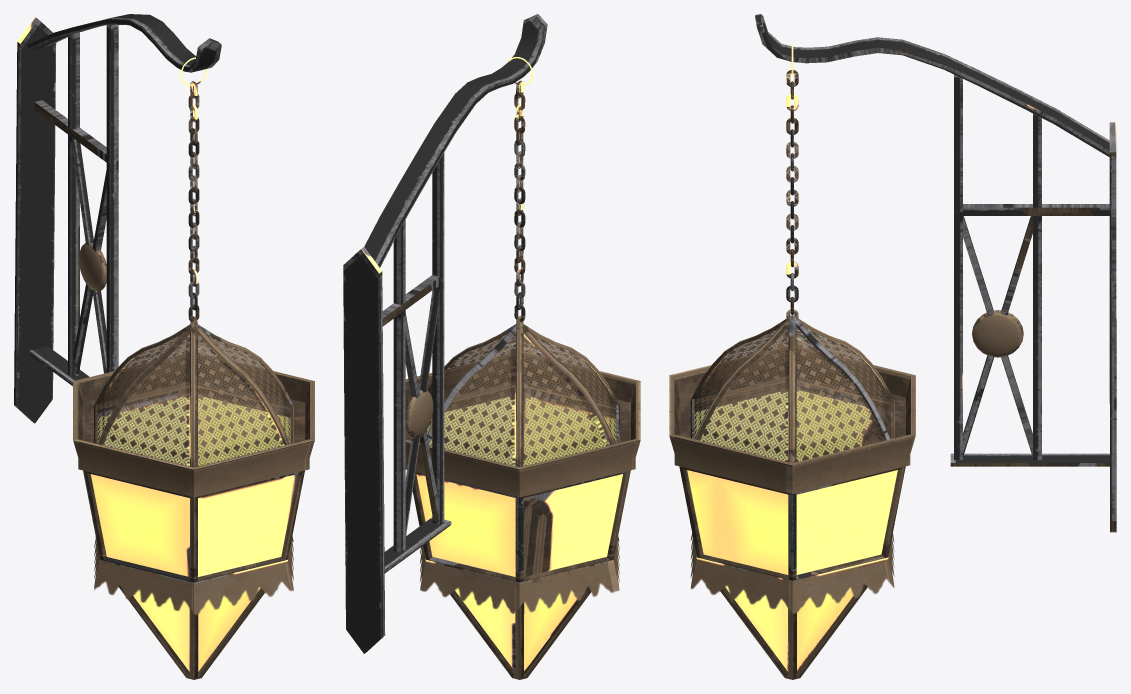
The model's file is xi_dep_wall_lamp.gltf.
3 views of the same model, side by side, from view 1: azimuth 30°, elevation 25°; view 2: azimuth 150°, elevation 25°; view 3: azimuth 270°, elevation 25° (orthographic).
Parts seen in each view (by area): view 1: xi_dep_wall_lamp; view 2: xi_dep_wall_lamp; view 3: xi_dep_wall_lamp.
Part boxes in pixels (x1=…): xi_dep_wall_lamp: x1=14, y1=14, x2=314, y2=679; xi_dep_wall_lamp: x1=343, y1=14, x2=640, y2=679; xi_dep_wall_lamp: x1=669, y1=14, x2=1116, y2=679.
Bounding box in the file's own units: 0.2864 × 0.7349 × 0.4501.
1 material, 1 textured.
